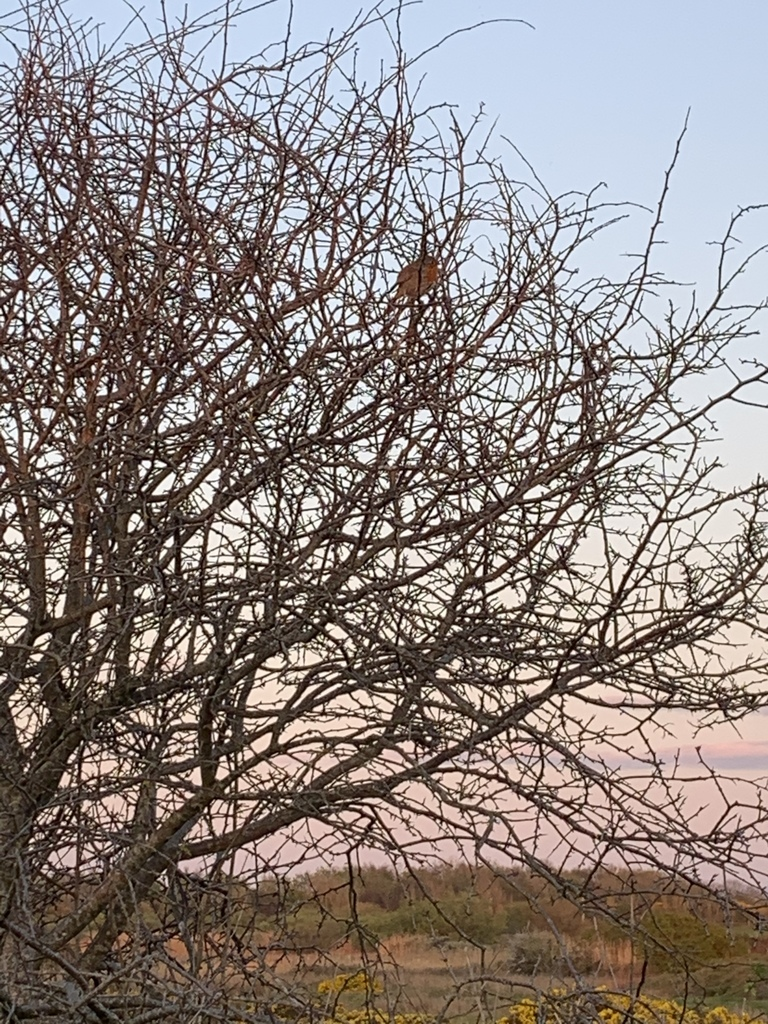Erithacus_Rubecula: (390, 255, 440, 303)
